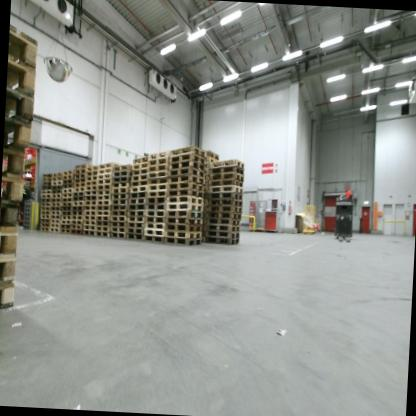pallet: (6, 50, 37, 102), (3, 110, 34, 155), (9, 24, 40, 68), (5, 83, 34, 126), (2, 141, 28, 175), (0, 174, 24, 207), (0, 226, 21, 262), (0, 199, 21, 233), (0, 280, 16, 314), (0, 256, 17, 286), (168, 164, 204, 178), (168, 178, 204, 192), (209, 156, 245, 169), (165, 214, 202, 226), (169, 172, 203, 185), (162, 220, 202, 231), (170, 144, 206, 156), (169, 153, 205, 165), (208, 172, 244, 183), (169, 160, 204, 171), (168, 187, 203, 198), (163, 236, 201, 246), (210, 164, 244, 175), (207, 197, 243, 207), (208, 185, 244, 195), (166, 202, 202, 212), (165, 208, 201, 218), (163, 229, 202, 238), (208, 190, 243, 200), (168, 194, 203, 204), (208, 204, 242, 214), (208, 179, 244, 188), (206, 230, 241, 239), (206, 217, 241, 226), (205, 237, 241, 245), (147, 149, 170, 160), (207, 225, 241, 232), (207, 212, 241, 219), (110, 178, 131, 189), (112, 162, 132, 173), (111, 169, 132, 179), (112, 174, 133, 184), (146, 163, 168, 172), (146, 177, 168, 186), (147, 189, 168, 198), (145, 216, 165, 225), (143, 235, 163, 244), (129, 185, 148, 194), (131, 161, 150, 170), (110, 196, 129, 205), (147, 182, 168, 190), (145, 202, 166, 210), (144, 209, 165, 217), (143, 228, 164, 236), (125, 233, 146, 241), (132, 155, 147, 166), (110, 191, 128, 200), (146, 171, 169, 178), (204, 149, 220, 159), (148, 156, 168, 164), (111, 185, 128, 194), (127, 221, 146, 229), (129, 191, 148, 199), (128, 202, 146, 210), (129, 179, 147, 187), (110, 214, 127, 222), (147, 196, 166, 203), (110, 220, 126, 228), (110, 231, 126, 239), (127, 215, 145, 222), (128, 209, 146, 216), (111, 204, 129, 211), (99, 160, 113, 169), (131, 174, 148, 181), (131, 168, 148, 175), (110, 208, 127, 215), (145, 223, 164, 229), (126, 228, 145, 234), (75, 162, 87, 171), (97, 172, 112, 179), (73, 173, 86, 181), (128, 198, 147, 203), (96, 220, 109, 227), (96, 209, 109, 216), (82, 209, 95, 216), (63, 168, 74, 176), (62, 181, 73, 189), (97, 189, 111, 195), (98, 183, 110, 190), (98, 178, 110, 185), (83, 224, 95, 231), (72, 196, 84, 203), (110, 227, 126, 232), (95, 231, 108, 237), (96, 215, 109, 221), (83, 195, 96, 201), (83, 200, 96, 206), (70, 229, 83, 235), (70, 224, 83, 230), (73, 178, 86, 184), (87, 164, 98, 171), (86, 170, 97, 177), (86, 175, 97, 182), (83, 230, 94, 237), (74, 186, 85, 193), (23, 197, 32, 205), (98, 195, 110, 201), (85, 180, 97, 186), (85, 185, 97, 191), (85, 190, 97, 196), (83, 215, 95, 221), (73, 182, 85, 188), (74, 169, 86, 175), (51, 180, 63, 186), (38, 221, 50, 227), (95, 226, 109, 231), (72, 214, 83, 220), (73, 191, 84, 197), (62, 174, 73, 180), (61, 192, 72, 198), (61, 196, 72, 202), (59, 228, 70, 234), (50, 223, 61, 229), (51, 197, 62, 203), (96, 205, 109, 210), (98, 168, 111, 173), (83, 205, 96, 210), (82, 220, 95, 225), (61, 188, 73, 193), (38, 218, 50, 223), (98, 200, 109, 205), (72, 220, 83, 225), (72, 205, 83, 210), (61, 201, 72, 206), (60, 224, 71, 229), (49, 228, 60, 233), (50, 211, 61, 216), (50, 189, 61, 194), (50, 185, 61, 190), (52, 176, 63, 181), (52, 172, 63, 177), (39, 193, 50, 198), (63, 178, 72, 184), (51, 203, 64, 207), (61, 214, 71, 219), (61, 219, 71, 224), (51, 219, 61, 224), (51, 215, 61, 220), (42, 173, 52, 178), (42, 181, 52, 186), (40, 198, 50, 203), (40, 202, 50, 207), (40, 206, 50, 211), (39, 214, 49, 219), (39, 226, 49, 231), (22, 226, 30, 232), (51, 207, 63, 211), (50, 193, 62, 197), (22, 208, 31, 213), (22, 212, 31, 217), (22, 217, 31, 222), (62, 206, 71, 211), (72, 210, 83, 214), (39, 189, 50, 193), (22, 221, 30, 226), (203, 174, 208, 182), (202, 210, 207, 218), (42, 185, 50, 190), (62, 211, 71, 215), (40, 210, 49, 214), (204, 162, 209, 169), (23, 204, 31, 208), (73, 202, 83, 205), (42, 178, 52, 181), (203, 187, 207, 194), (202, 217, 206, 224), (202, 224, 206, 231), (205, 157, 210, 162), (204, 169, 209, 174), (202, 205, 207, 210), (203, 194, 207, 200), (203, 199, 207, 205), (201, 231, 205, 237), (203, 182, 207, 187), (202, 237, 205, 243)
pallet_truck: (330, 196, 358, 245)
